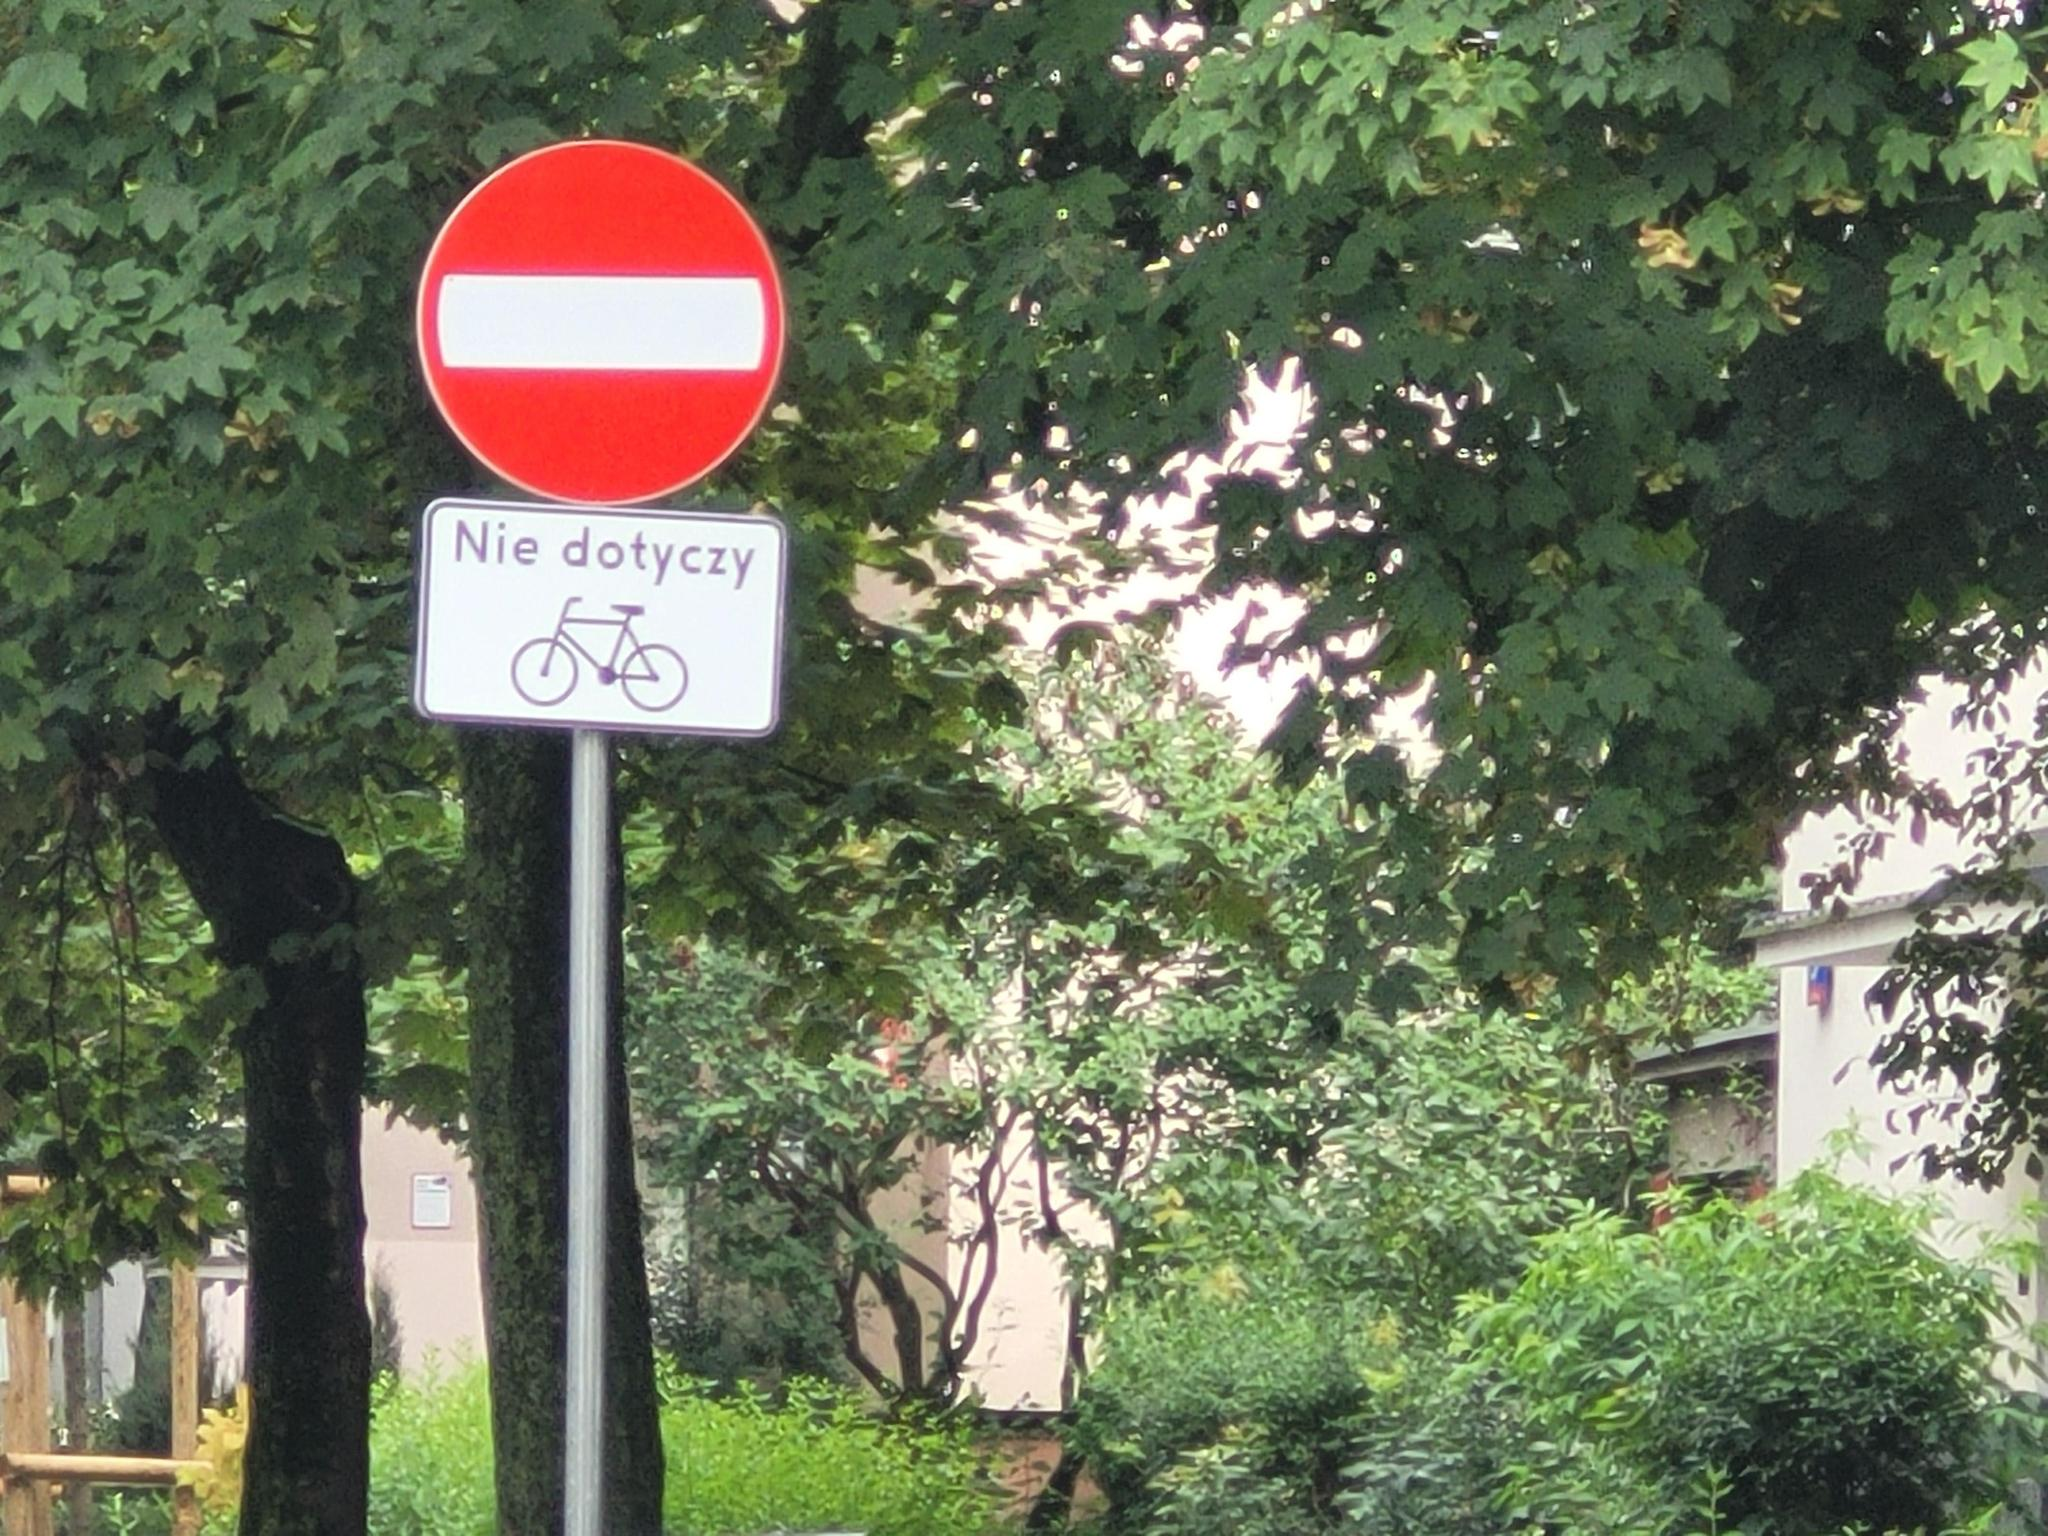other: (424, 518, 780, 728)
prohibitory: (414, 139, 787, 508)
